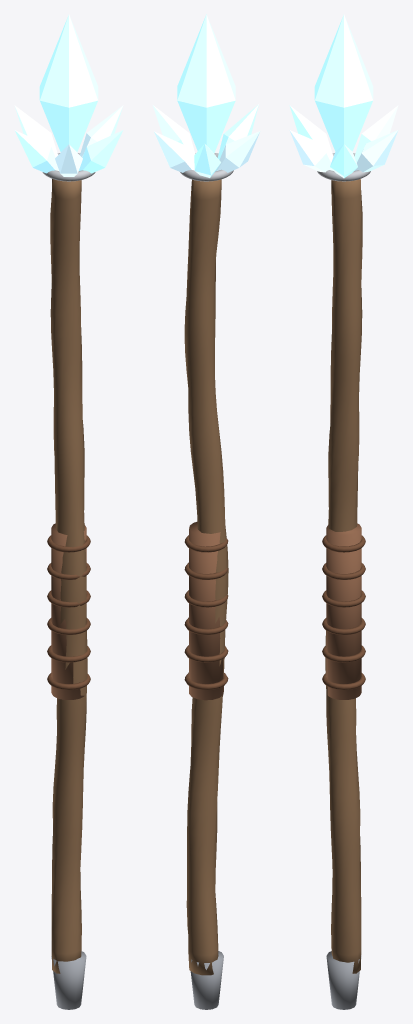
Rendered from cajado-gelo-490.glb.
3 views of the same model, side by side, from view 1: azimuth 90°, elevation 25°; view 2: azimuth 150°, elevation 25°; view 3: azimuth 270°, elevation 25° (orthographic).
Visible parts, largest first — view 1: cajado-gelo; view 2: cajado-gelo; view 3: cajado-gelo.
Part boxes in pixels (x1,y1,x2,y2): cajado-gelo: (14,14,123,1009); cajado-gelo: (152,14,260,1009); cajado-gelo: (289,14,398,1009).
Bounding box in the file's own units: 0.185 × 1.62 × 0.1618.
